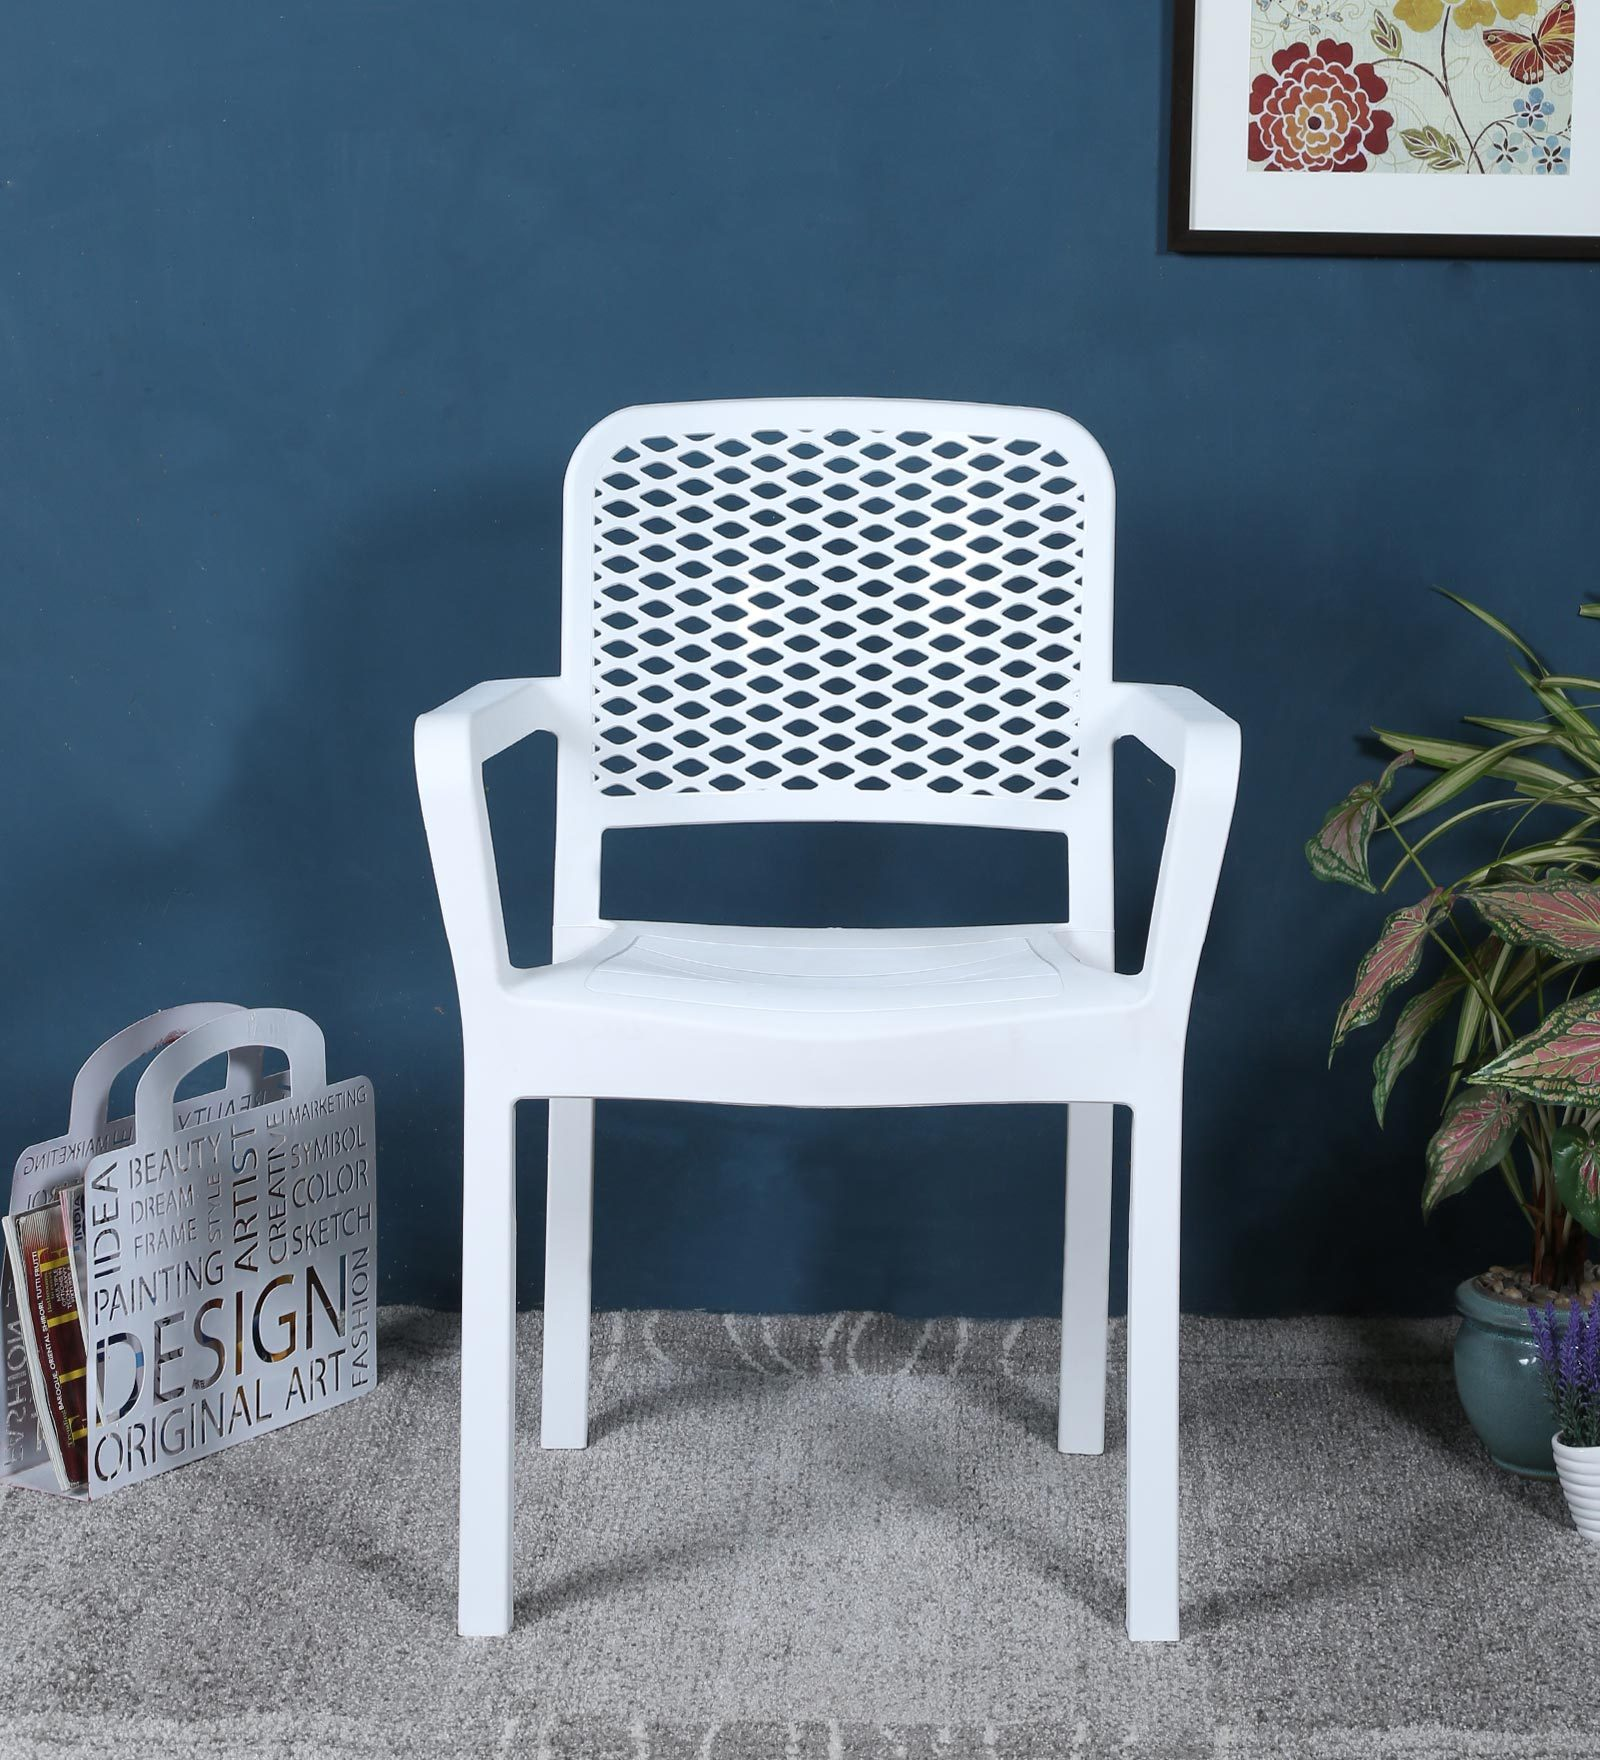Luxury Plastic Chair in White Colour by Italica Furniture: (408, 366, 1261, 1634)
